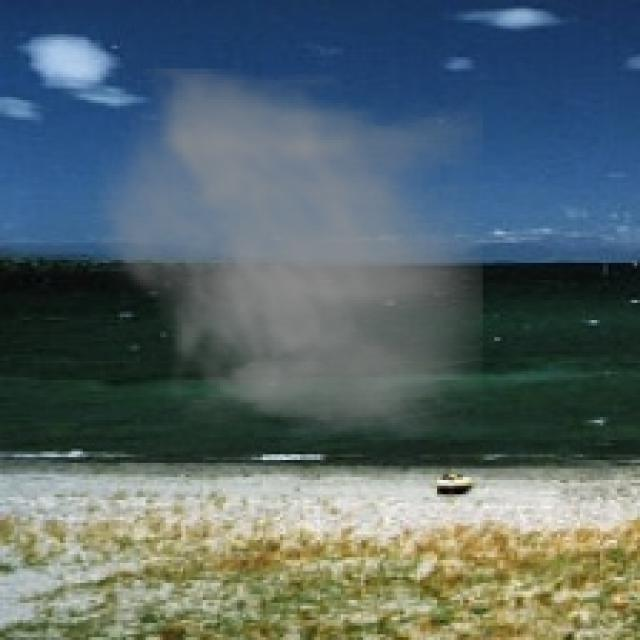smoke: (83, 69, 483, 440)
